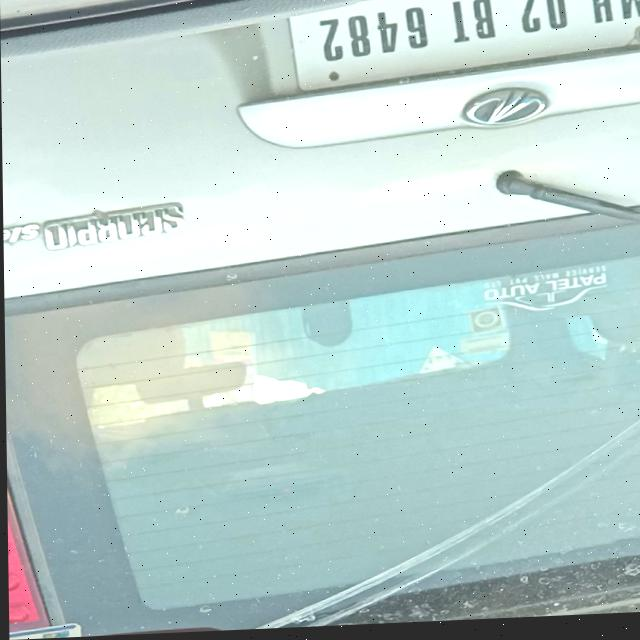plate: (286, 0, 640, 97)
